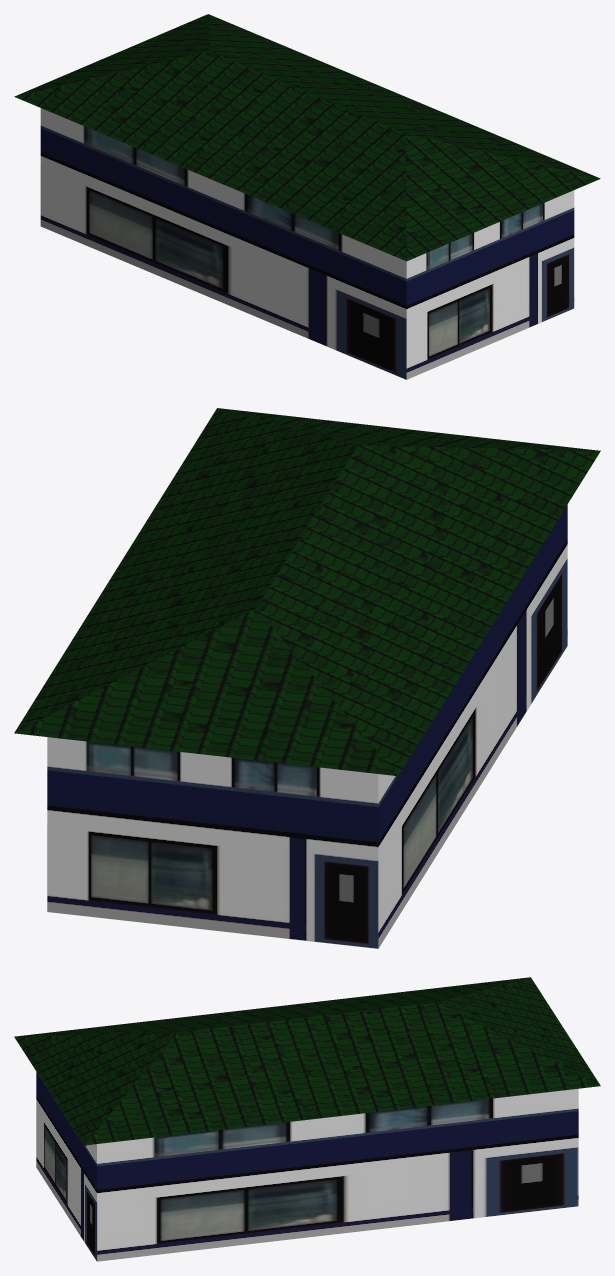
The picture shows the model from 3 angles, top to bottom: view 1: azimuth 30°, elevation 25°; view 2: azimuth 150°, elevation 25°; view 3: azimuth 270°, elevation 25°; orthographic projection. The views are drawn at different scales.
Visible parts, largest first — view 1: CityEngineMaterial_13_m, CityEngineMaterial_2_m; view 2: CityEngineMaterial_13_m, CityEngineMaterial_2_m; view 3: CityEngineMaterial_2_m, CityEngineMaterial_13_m.
Boxes of the visible parts, bbox=[...] form: CityEngineMaterial_13_m: bbox=[14, 14, 600, 261]; CityEngineMaterial_2_m: bbox=[40, 108, 574, 379]; CityEngineMaterial_13_m: bbox=[14, 408, 600, 775]; CityEngineMaterial_2_m: bbox=[47, 504, 567, 948]; CityEngineMaterial_2_m: bbox=[36, 1072, 578, 1261]; CityEngineMaterial_13_m: bbox=[14, 977, 600, 1145].
Size of the model in its own units: 20.45 by 9.62 by 30.14.
